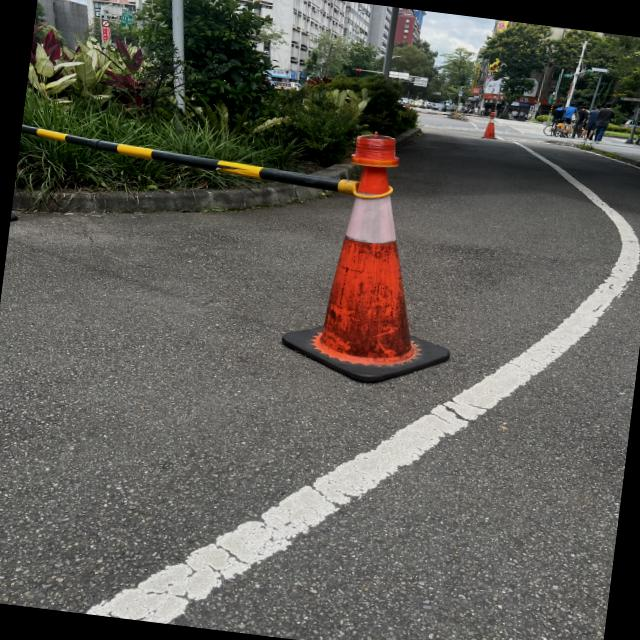cone: (282, 118, 458, 379), (467, 106, 512, 148)
